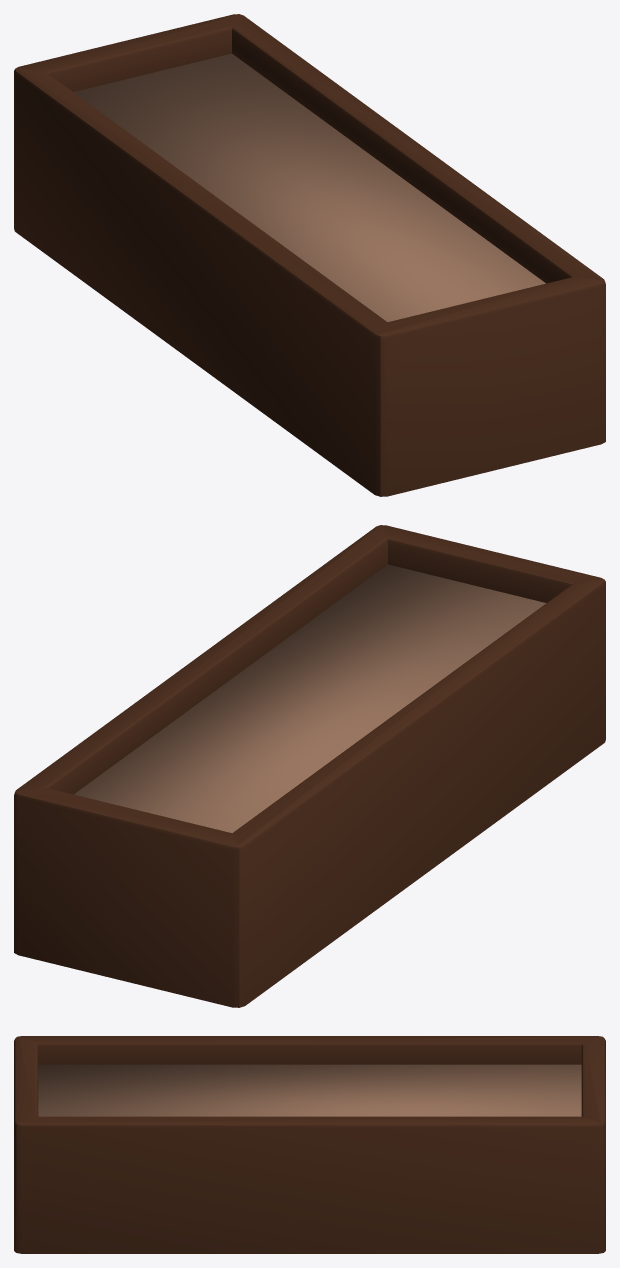
File: OutsidePlanter.fbx
3 views of the same model, one above another, from view 1: azimuth 30°, elevation 25°; view 2: azimuth 150°, elevation 25°; view 3: azimuth 270°, elevation 25° (orthographic). The views are drawn at different scales.
Visible parts, largest first — view 1: Planter, Soil; view 2: Planter, Soil; view 3: Planter, Soil.
Part boxes in pixels (left/top/right/bottom): Planter: left=14, top=14, right=605, bottom=496; Soil: left=73, top=53, right=545, bottom=322; Planter: left=14, top=525, right=605, bottom=1007; Soil: left=74, top=564, right=546, bottom=833; Planter: left=14, top=1036, right=605, bottom=1253; Soil: left=38, top=1064, right=581, bottom=1116.
Size of the model in its own units: 100 by 66.83 by 278.
